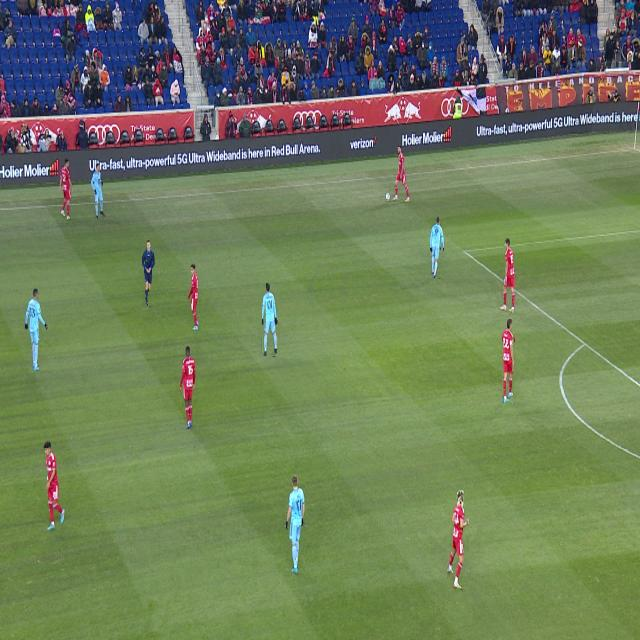football: (386, 194, 390, 200)
player: (448, 490, 469, 589), (25, 288, 48, 370), (44, 441, 65, 530), (286, 475, 305, 573), (180, 346, 196, 428), (500, 238, 515, 313), (262, 284, 277, 356), (392, 144, 409, 202), (503, 319, 514, 403), (59, 157, 73, 220), (91, 163, 105, 220), (431, 217, 443, 278), (188, 264, 199, 330)
referee: (142, 240, 155, 306)
